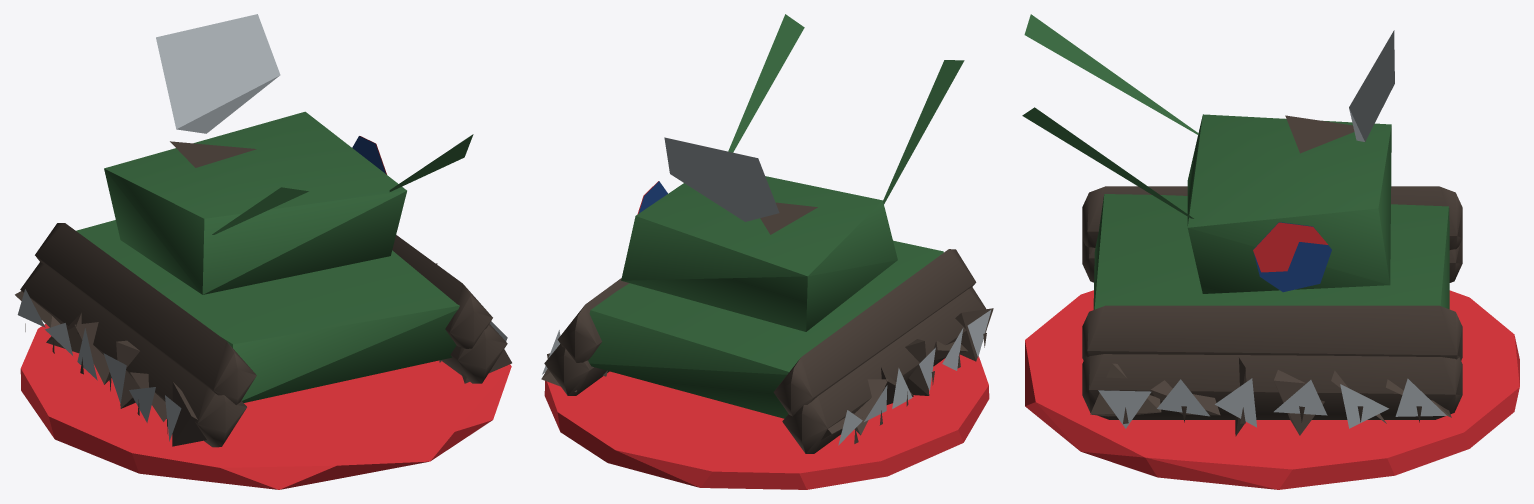
File: south_korea_anti_aircraft_lod1.glb
The picture shows the model from 3 angles, left to right: view 1: azimuth 30°, elevation 25°; view 2: azimuth 150°, elevation 25°; view 3: azimuth 270°, elevation 25°; orthographic projection. The views are drawn at different scales.
Parts seen in each view (by area): view 1: body_hull, base_pedestal; view 2: body_hull, base_pedestal; view 3: body_hull, base_pedestal.
Boxes of the visible parts, x1,y1,x2,y2 form: body_hull: (15,14,511,447); base_pedestal: (20,324,511,489); body_hull: (541,14,993,453); base_pedestal: (544,354,989,489); body_hull: (1022,14,1462,436); base_pedestal: (1025,290,1519,489).
Bounding box in the file's own units: 0.7857 × 0.5607 × 0.7712.
